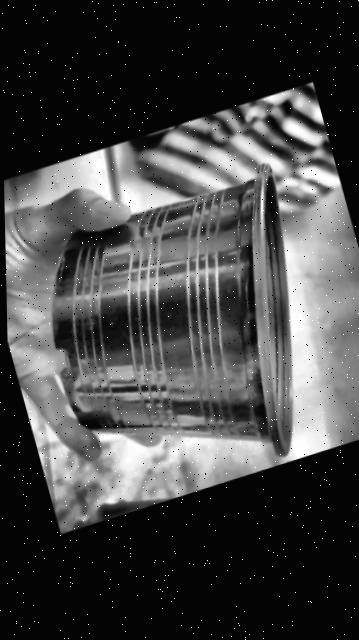pot: (51, 164, 290, 456)
